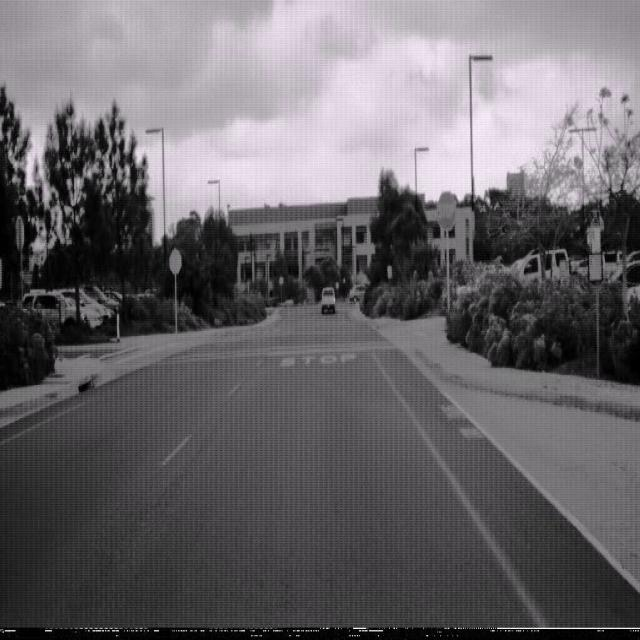stop: (436, 190, 457, 232)
